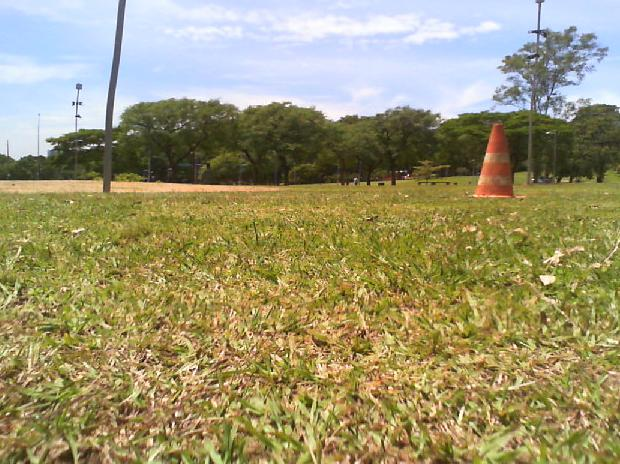0 cone: (471, 123, 516, 198)
